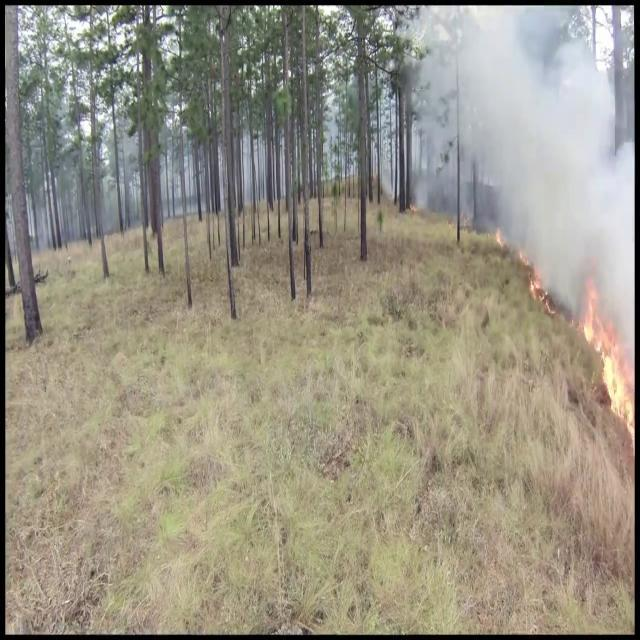Fire: (580, 292, 634, 448)
Smoke: (426, 6, 635, 323)
